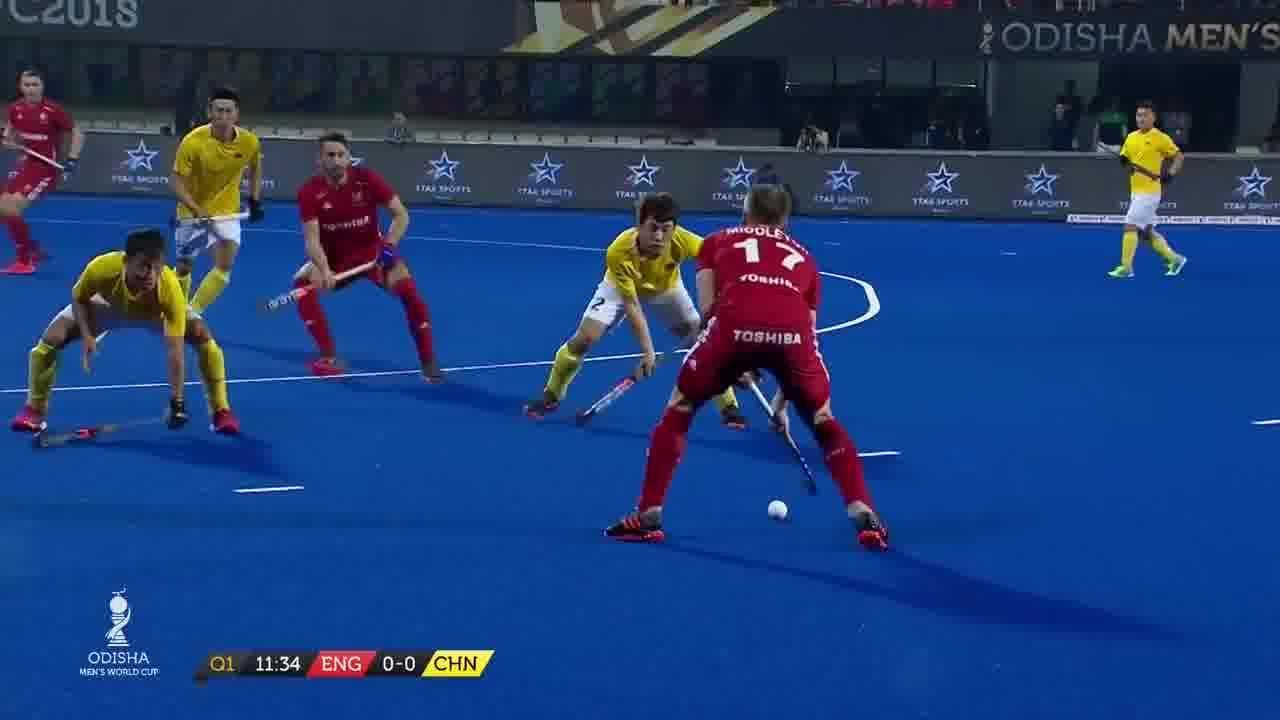ball: (766, 484, 796, 528)
